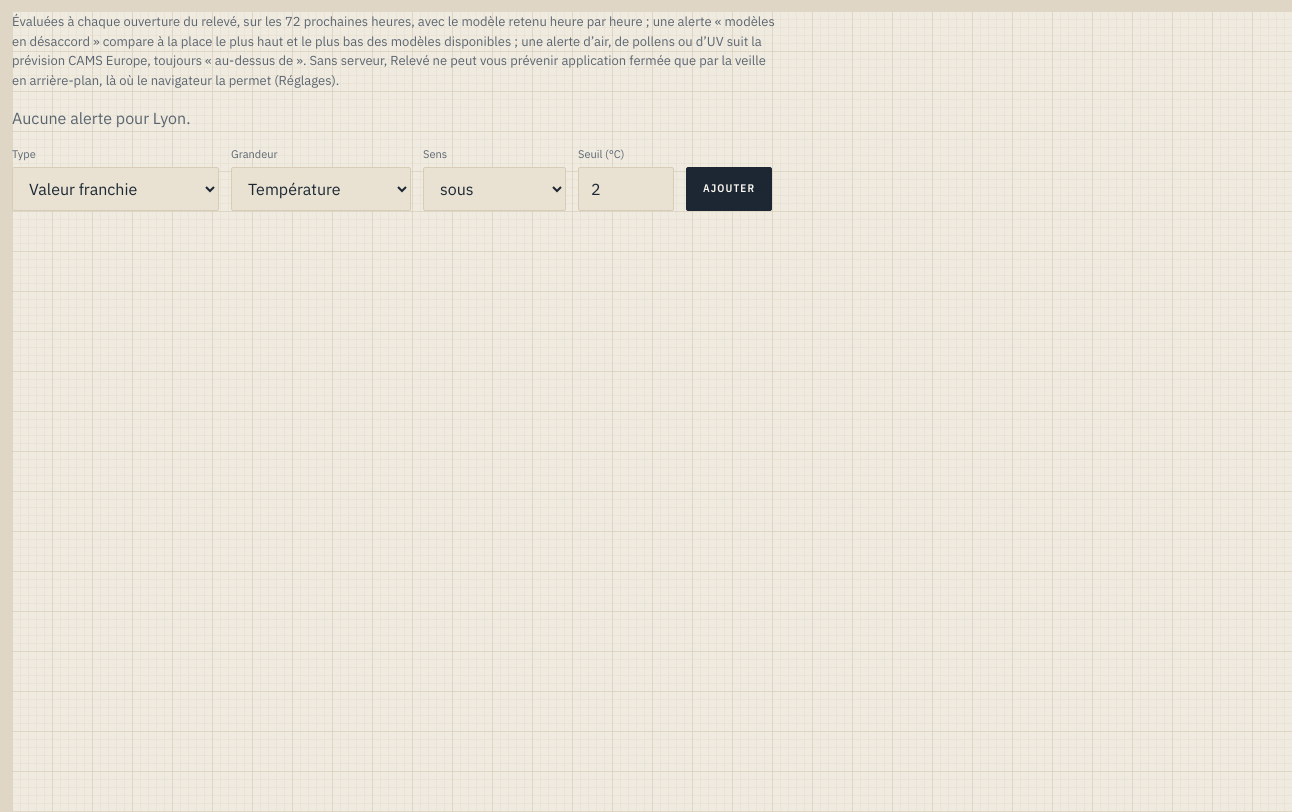
AlertRulesEditor › remet le seuil usuel de la grandeur quand on change de type pour l air
Select "Air, pollens ou UV" in the dropdown labelled "Type" at (116, 188), box [12,166,219,210]
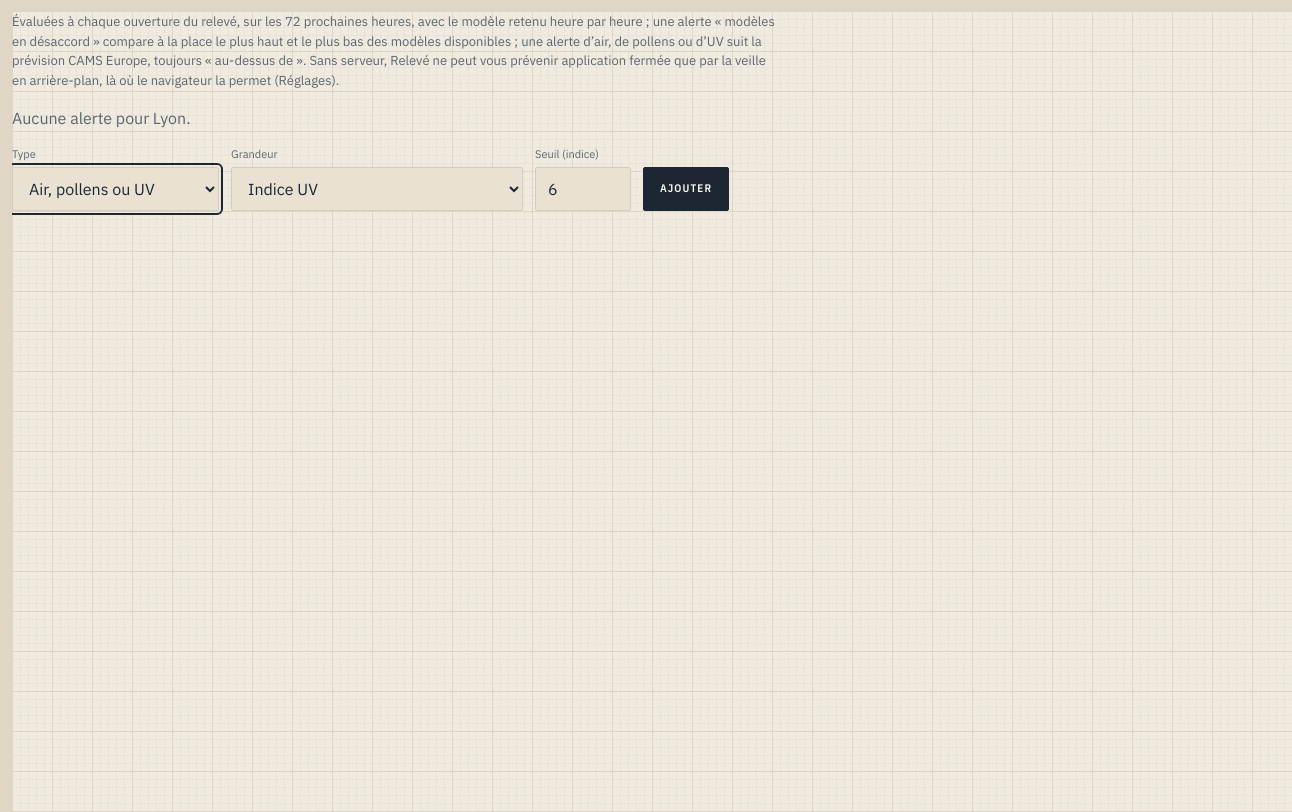
Select "Particules fines PM2,5" in the dropdown labelled "Grandeur" at (377, 188), box [231,166,523,210]
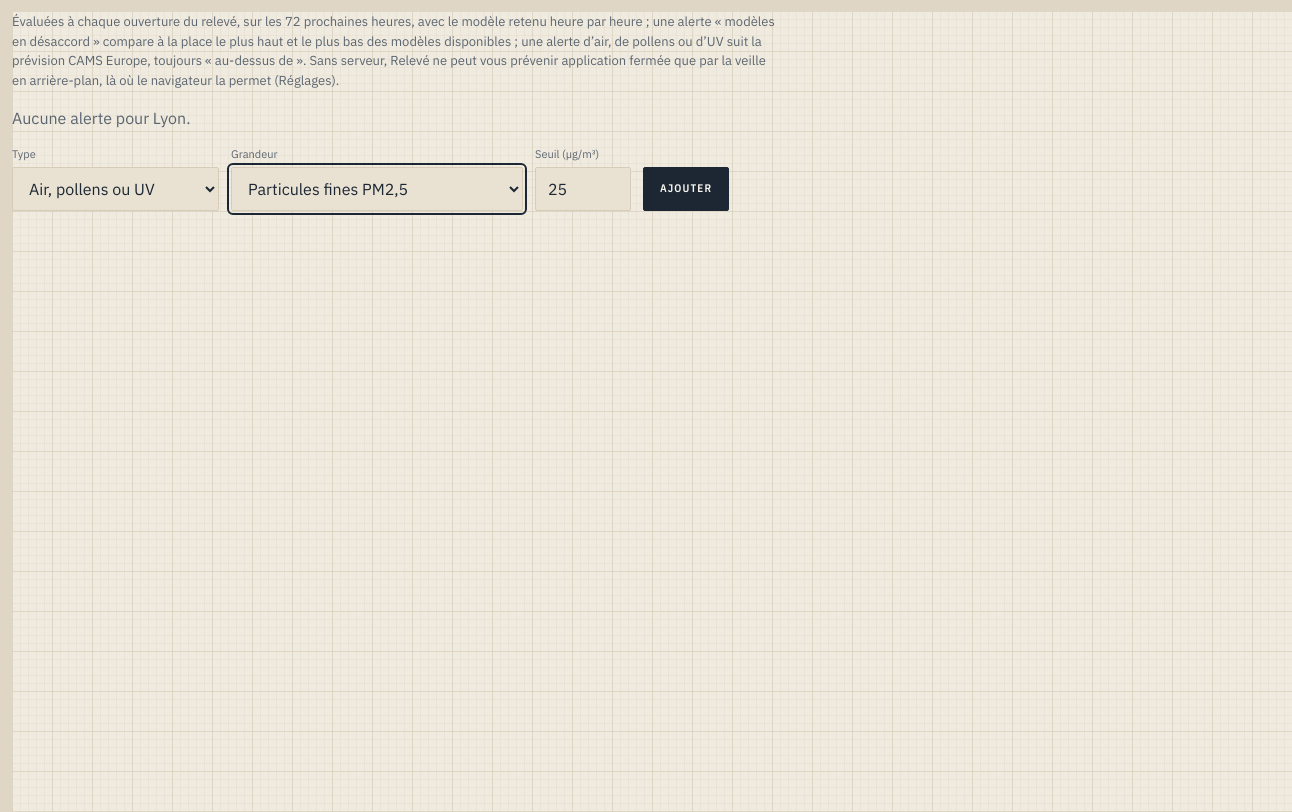
Now the field labelled "Seuil (µg/m³)" holds "25", box [535,166,631,210]
